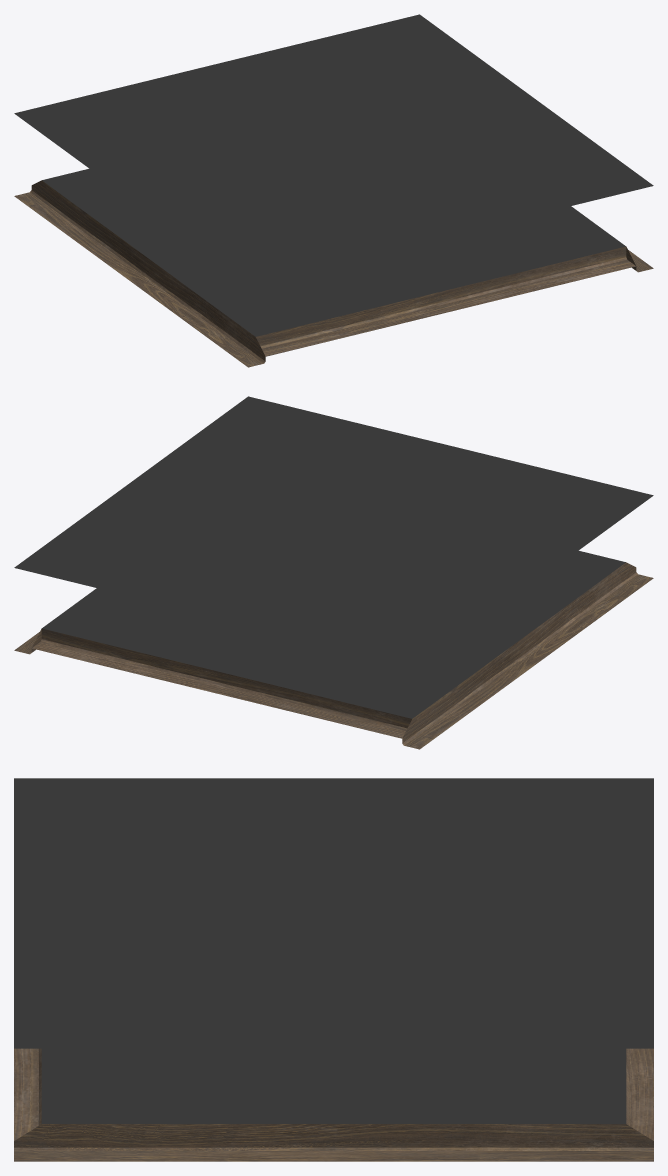
Rendered from SM_Floor_Ceiling_3x3.FBX.
3 views of the same model, one above another, from view 1: azimuth 30°, elevation 25°; view 2: azimuth 150°, elevation 25°; view 3: azimuth 270°, elevation 25° (orthographic). The views are drawn at different scales.
Parts seen in each view (by area): view 1: SM_Floor_Ceiling_3x3; view 2: SM_Floor_Ceiling_3x3; view 3: SM_Floor_Ceiling_3x3.
Boxes of the visible parts, x1,y1,x2,y2 form: SM_Floor_Ceiling_3x3: (14,14,653,367); SM_Floor_Ceiling_3x3: (14,396,653,749); SM_Floor_Ceiling_3x3: (14,778,653,1161).
Size of what is drawn, in the model's own units: 300 by 300 by 58.42.
